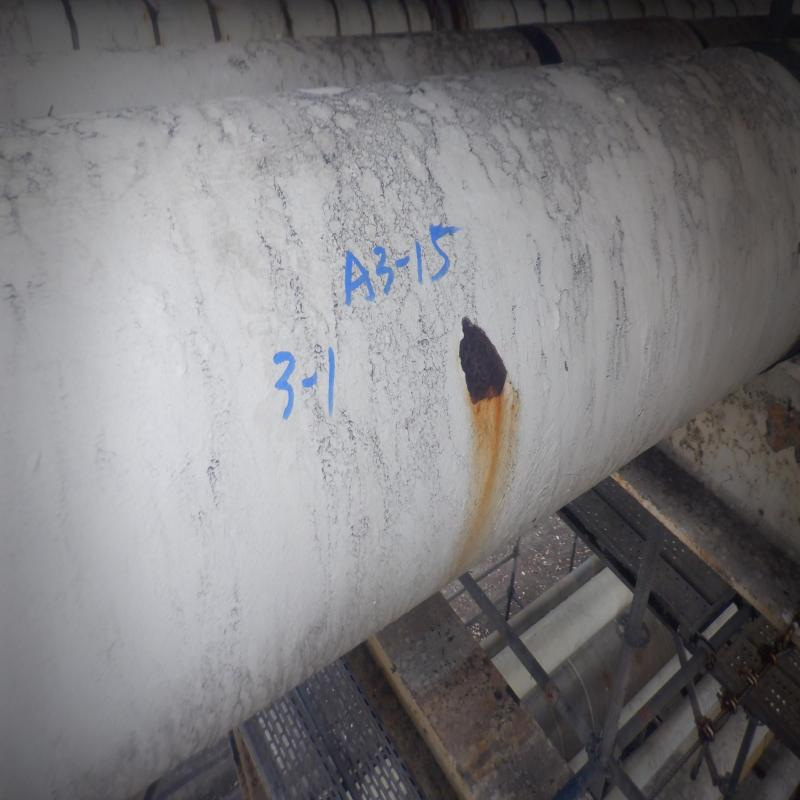corrosion: (462, 326, 507, 404)
